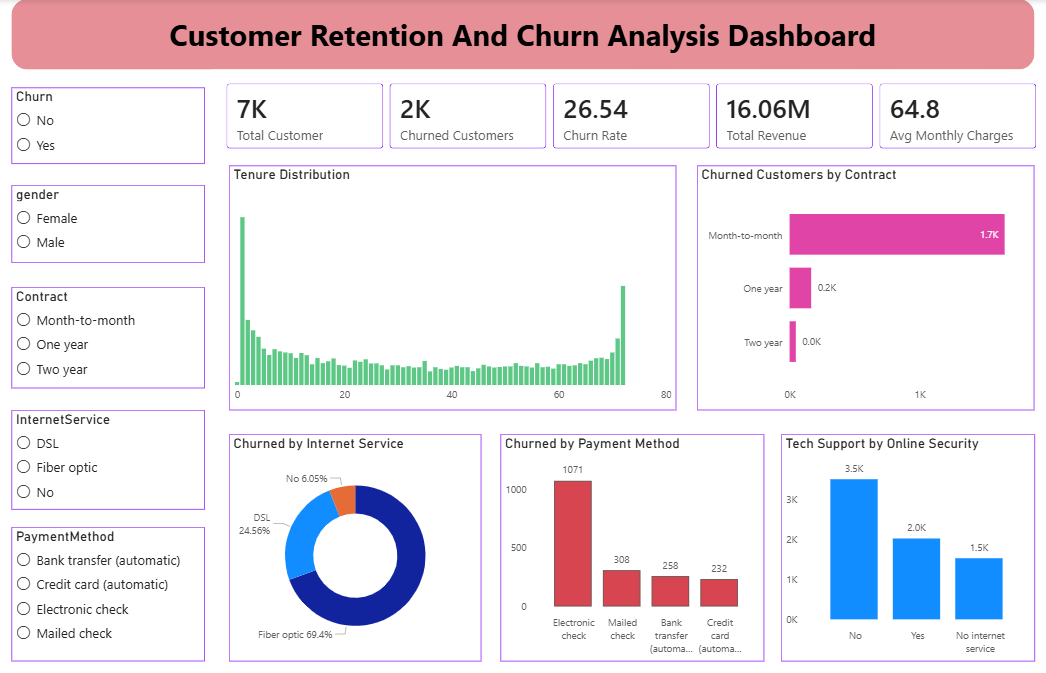

What the dashboard file says about the page in this screenshot:
{"tool":"powerbi","page":{"name":"Page 1","canvas":[1300,836],"ordinal":0},"visuals":[{"type":"donutChart","title":"Churned by Internet Service","fields":{"Category":["Telco-Customer-Churn.InternetService"],"Y":["Telco-Customer-Churn.Churned Customers"]},"box":[287.9,535.5,310.9,280.2],"z":0},{"type":"columnChart","title":"Churned by Payment Method","fields":{"Y":["Telco-Customer-Churn.Churned Customers"],"Category":["Telco-Customer-Churn.PaymentMethod"]},"box":[621.9,535.5,324.4,280.2],"z":1000},{"type":"columnChart","title":"Tech Support by Online Security","fields":{"Category":["Telco-Customer-Churn.OnlineSecurity"],"Y":["CountNonNull(Telco-Customer-Churn.TechSupport)"]},"box":[967.3,535.5,312.8,280.2],"z":2000},{"type":"clusteredBarChart","fields":{"Category":["Telco-Customer-Churn.Contract"],"Y":["Telco-Customer-Churn.Churned Customers"]},"box":[864.3,205,415.5,301],"z":3000},{"type":"shape","box":[0,0,1300.2,86.8],"z":4000},{"type":"cardVisual","fields":{"Data":["Telco-Customer-Churn.Total Customer","Telco-Customer-Churn.Churned Customers","Telco-Customer-Churn.Churn Rate","Telco-Customer-Churn.Total Revenue","Telco-Customer-Churn.Avg Monthly Charges"]},"box":[267.8,86.8,1032.4,114.5],"z":5000},{"type":"listSlicer","fields":{"Values":["Telco-Customer-Churn.gender"]},"box":[21.1,228.4,238,96],"z":6000},{"type":"listSlicer","fields":{"Values":["Telco-Customer-Churn.Contract"]},"box":[21.1,355.1,238,124.8],"z":7000},{"type":"listSlicer","fields":{"Values":["Telco-Customer-Churn.InternetService"]},"box":[21.1,506.7,238,122.8],"z":9000},{"type":"listSlicer","fields":{"Values":["Telco-Customer-Churn.Churn"]},"box":[21.1,109.4,238,94],"z":10000},{"type":"lineClusteredColumnComboChart","title":"Tenure Distribution","fields":{"Category":["Telco-Customer-Churn.tenure"],"Y":["CountNonNull(Telco-Customer-Churn.customerID)"]},"box":[287.9,205.4,550.8,301.3],"z":11000},{"type":"listSlicer","fields":{"Values":["Telco-Customer-Churn.PaymentMethod"]},"box":[21.1,650.6,238,165.1],"z":11001}]}

Visuals, with their boxes in screenshot pixels (x1, y1, x2, y2), scaled from the page's 1300x836 canvas onto the 1046x673 screenshot:
"Churned by Internet Service" donutChart: <box>232,431,482,657</box>
"Churned by Payment Method" columnChart: <box>500,431,761,657</box>
"Tech Support by Online Security" columnChart: <box>778,431,1030,657</box>
clusteredBarChart - Telco-Customer-Churn.Contract x Telco-Customer-Churn.Churned Customers: <box>695,165,1030,407</box>
shape: <box>0,0,1045,70</box>
cardVisual - Telco-Customer-Churn.Total Customer x Telco-Customer-Churn.Churned Customers: <box>215,70,1045,162</box>
listSlicer - Telco-Customer-Churn.gender: <box>17,184,208,261</box>
listSlicer - Telco-Customer-Churn.Contract: <box>17,286,208,386</box>
listSlicer - Telco-Customer-Churn.InternetService: <box>17,408,208,507</box>
listSlicer - Telco-Customer-Churn.Churn: <box>17,88,208,164</box>
"Tenure Distribution" lineClusteredColumnComboChart: <box>232,165,675,408</box>
listSlicer - Telco-Customer-Churn.PaymentMethod: <box>17,524,208,657</box>
